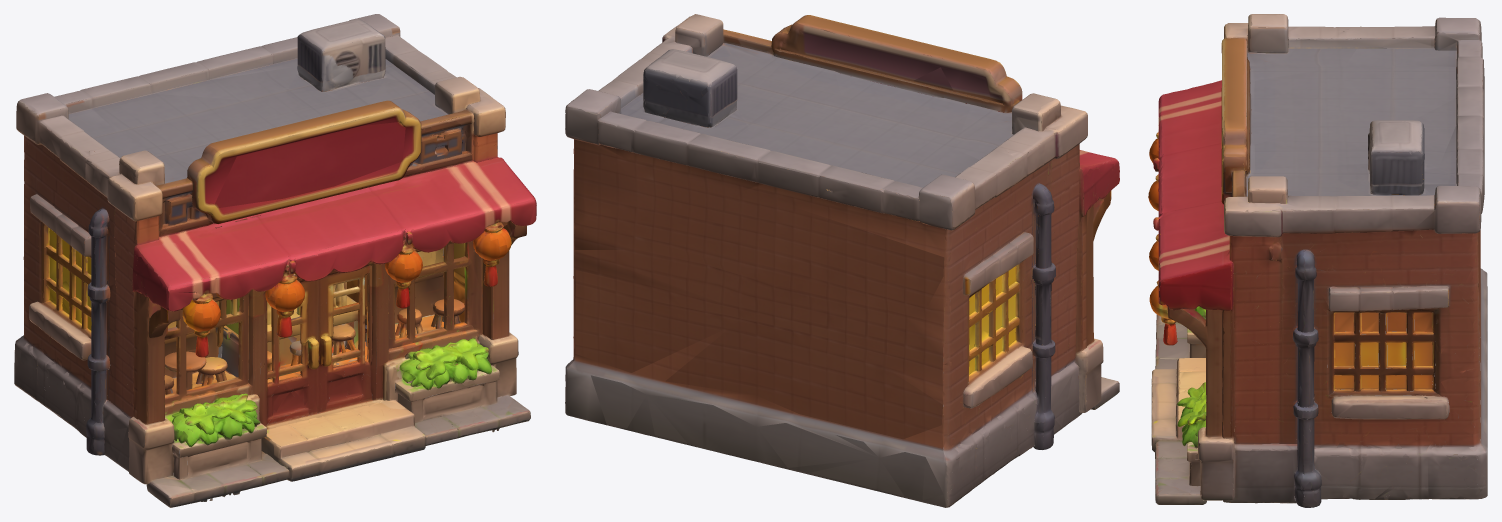
Rendered from DistrictNightmarketAI.fbx.
3 renders of one model, left to right at view 1: azimuth 30°, elevation 25°; view 2: azimuth 150°, elevation 25°; view 3: azimuth 270°, elevation 25°, orthographic. The views are drawn at different scales.
Parts seen in each view (by area): view 1: geometry_0; view 2: geometry_0; view 3: geometry_0.
Part boxes in pixels (<box>): geometry_0: <box>14,14,536,507</box>; geometry_0: <box>565,14,1119,507</box>; geometry_0: <box>1148,14,1487,507</box>.
Size of the model in its own units: 1 by 0.817 by 0.7405.
